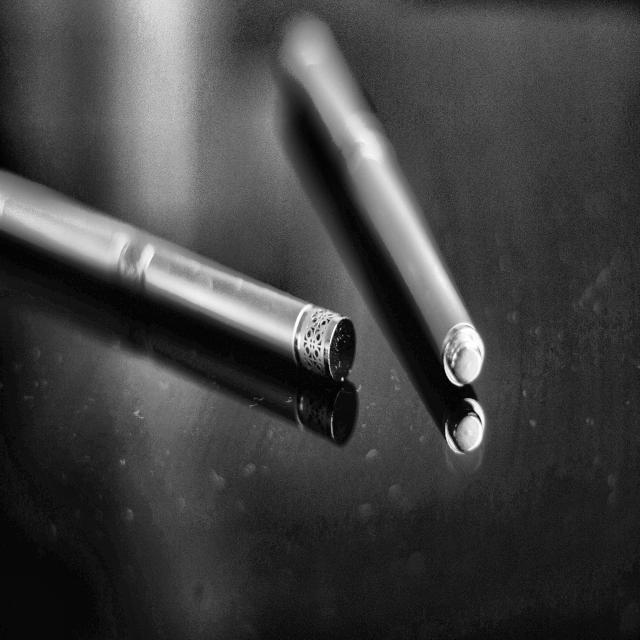Pen: (266, 15, 488, 392), (0, 170, 360, 385)
